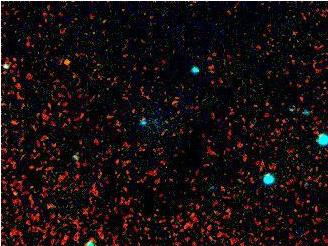star: (52, 46, 82, 76)
